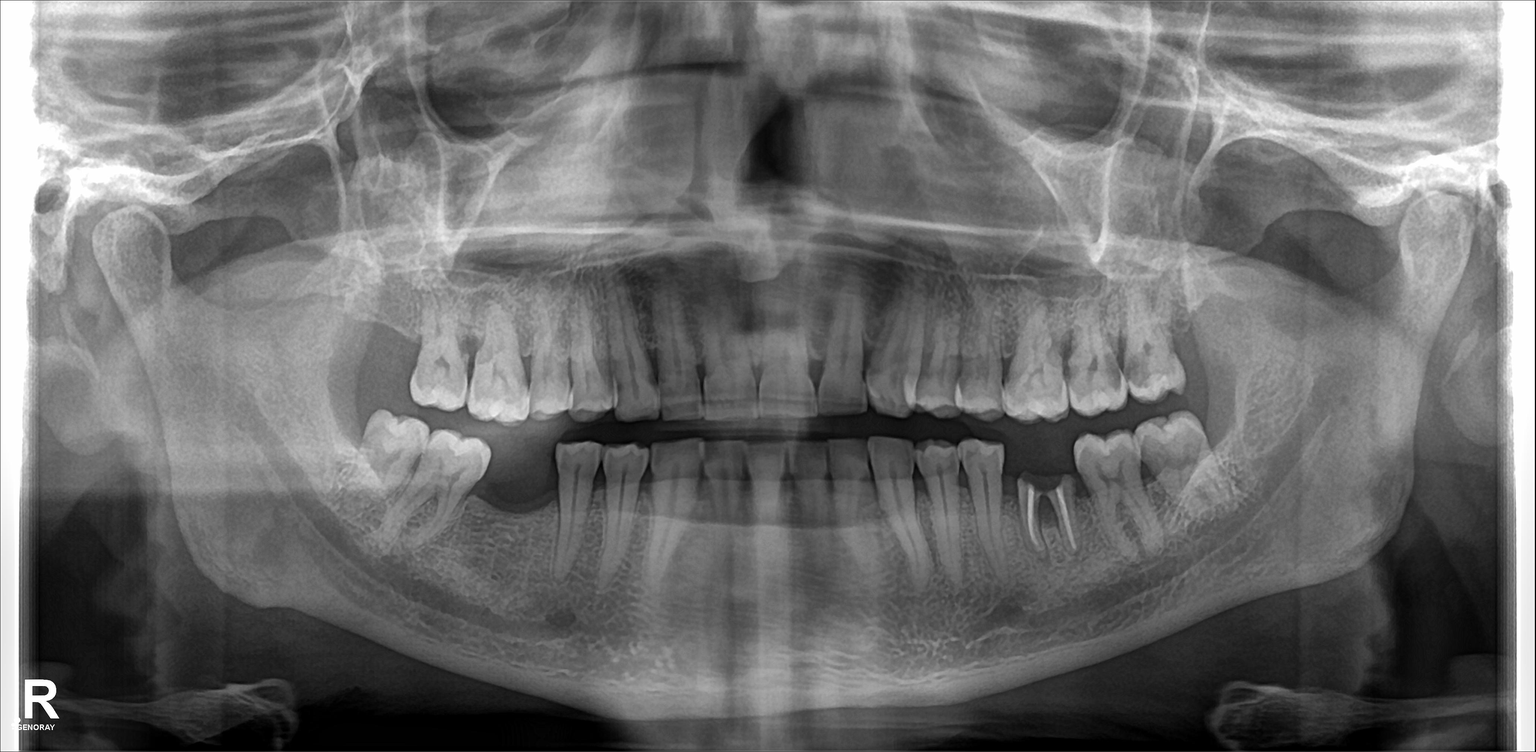Dental Caries: (1013, 471, 1068, 493)
Endodontically Treated Tooth: (1000, 441, 1077, 556)
Missing Tooth: (492, 449, 548, 556), (341, 305, 375, 398), (382, 307, 410, 396)
